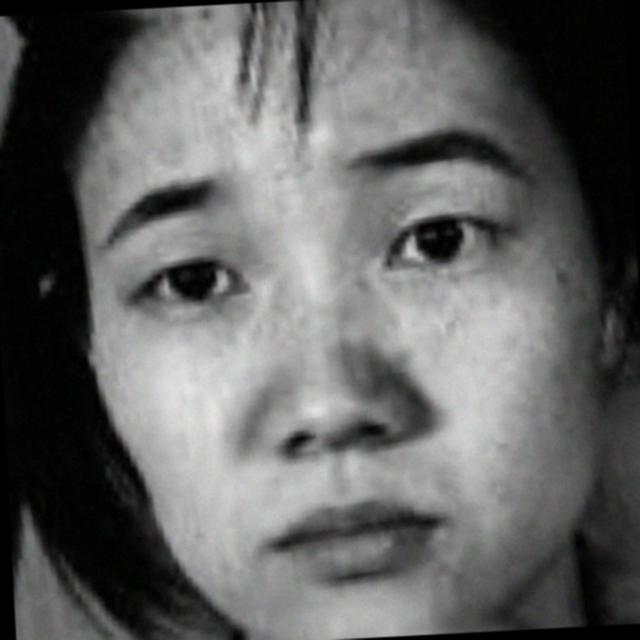fear: (36, 27, 609, 640)
